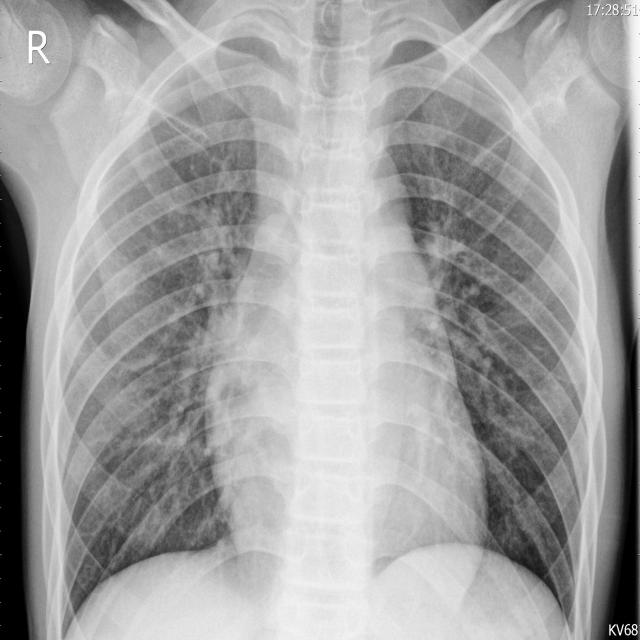no-pneumonia: (45, 48, 294, 634), (372, 66, 606, 639)
